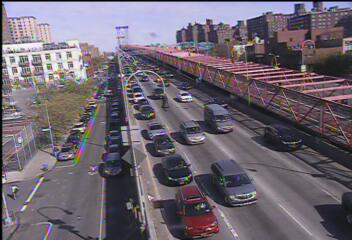neg: (177, 61, 208, 102), (215, 109, 244, 148), (255, 46, 284, 84), (27, 78, 50, 108), (81, 104, 101, 132), (109, 137, 129, 164), (58, 45, 78, 71), (110, 22, 128, 45), (172, 161, 189, 183), (65, 138, 79, 156), (40, 177, 54, 195)
